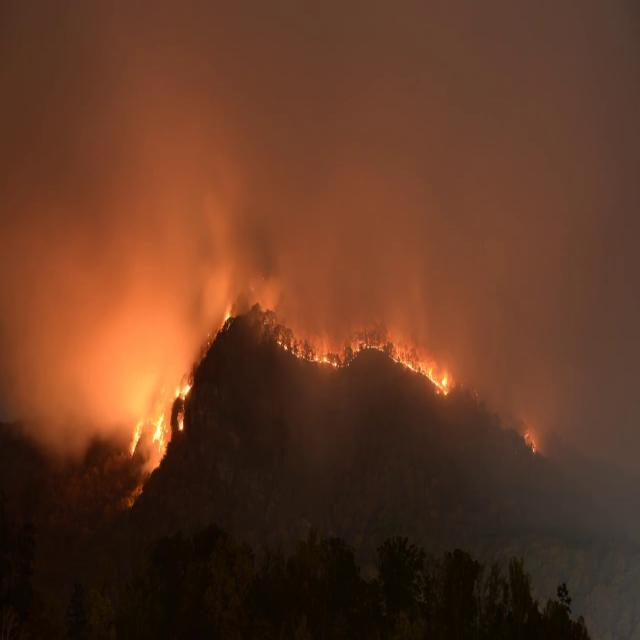Fire: (362, 342, 448, 396), (274, 335, 358, 365), (128, 416, 170, 462), (173, 383, 191, 402), (220, 306, 232, 334), (175, 412, 185, 432), (526, 432, 536, 452)
Smoke: (0, 0, 474, 297), (486, 134, 640, 638), (190, 395, 491, 617)
